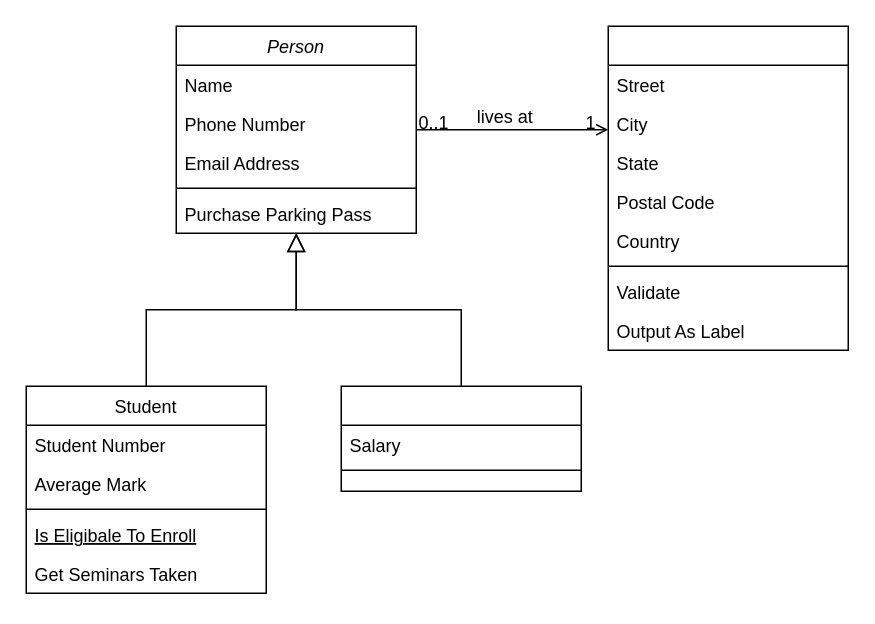
This 875x624 diagram has some shape labels left out. The shapes that lost their labels are listed below. From the top down, each one's box as (x1, y1, x2, y2) in pixels, then its label:
(607, 25, 848, 350): Address
(340, 385, 581, 491): Professor
